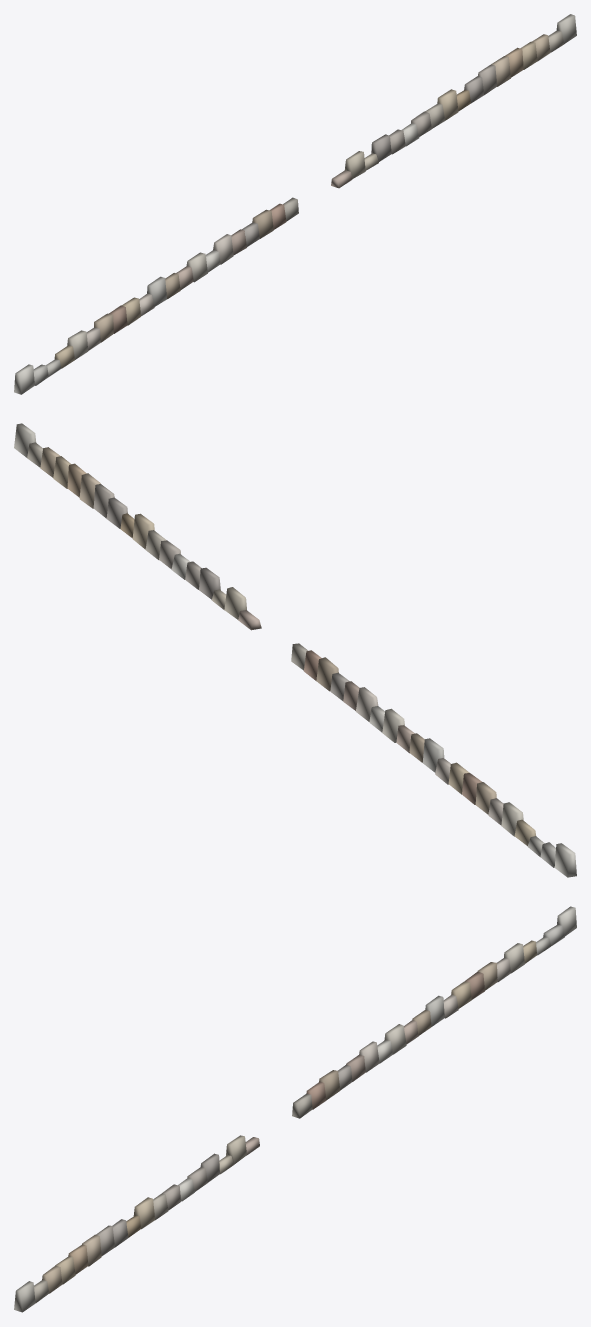
Rendered from farm_-23_-23_far.glb.
The picture shows the model from 3 angles, top to bottom: view 1: azimuth 90°, elevation 25°; view 2: azimuth 150°, elevation 25°; view 3: azimuth 270°, elevation 25°; orthographic projection. The views are drawn at different scales.
Parts seen in each view (by area): view 1: geometry_0; view 2: geometry_0; view 3: geometry_0.
Part boxes in pixels (bbox=[...]): geometry_0: bbox=[14, 14, 576, 394]; geometry_0: bbox=[14, 423, 576, 877]; geometry_0: bbox=[14, 906, 576, 1312].
Bounding box in the file's own units: 56.61 × 2.32 × 36.04.
